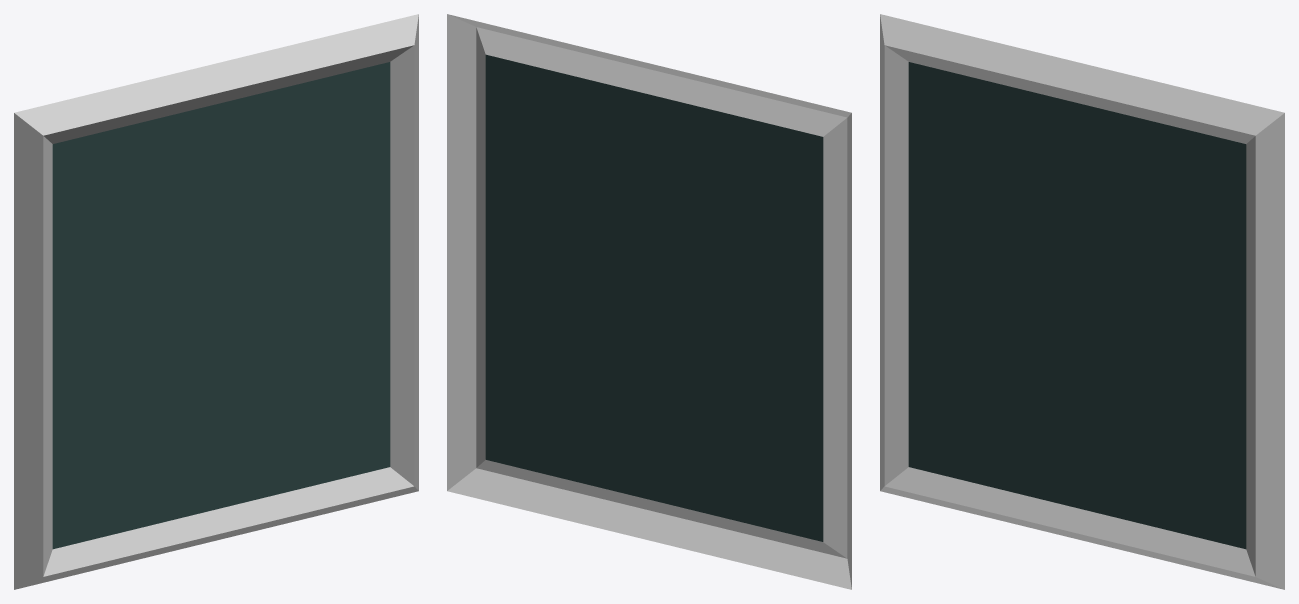
Rendered from OC_PICTURE_V1.OBJ.
The picture shows the model from 3 angles, left to right: view 1: azimuth 30°, elevation 25°; view 2: azimuth 150°, elevation 25°; view 3: azimuth 330°, elevation 25°; orthographic projection.
Parts seen in each view (by area): view 1: OC_PICTURE_V1; view 2: OC_PICTURE_V1; view 3: OC_PICTURE_V1.
Boxes of the visible parts, x1=… form: OC_PICTURE_V1: x1=14, y1=14, x2=418, y2=589; OC_PICTURE_V1: x1=447, y1=14, x2=851, y2=589; OC_PICTURE_V1: x1=880, y1=14, x2=1284, y2=589.
Bounding box in the file's own units: 1.88 × 2.12 × 0.1.
